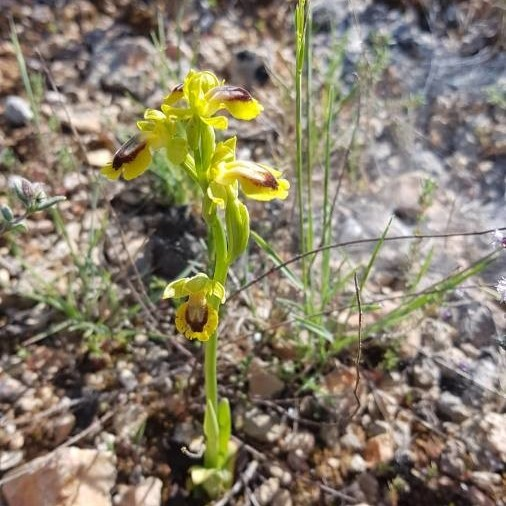obstacle: (127, 82, 278, 483)
